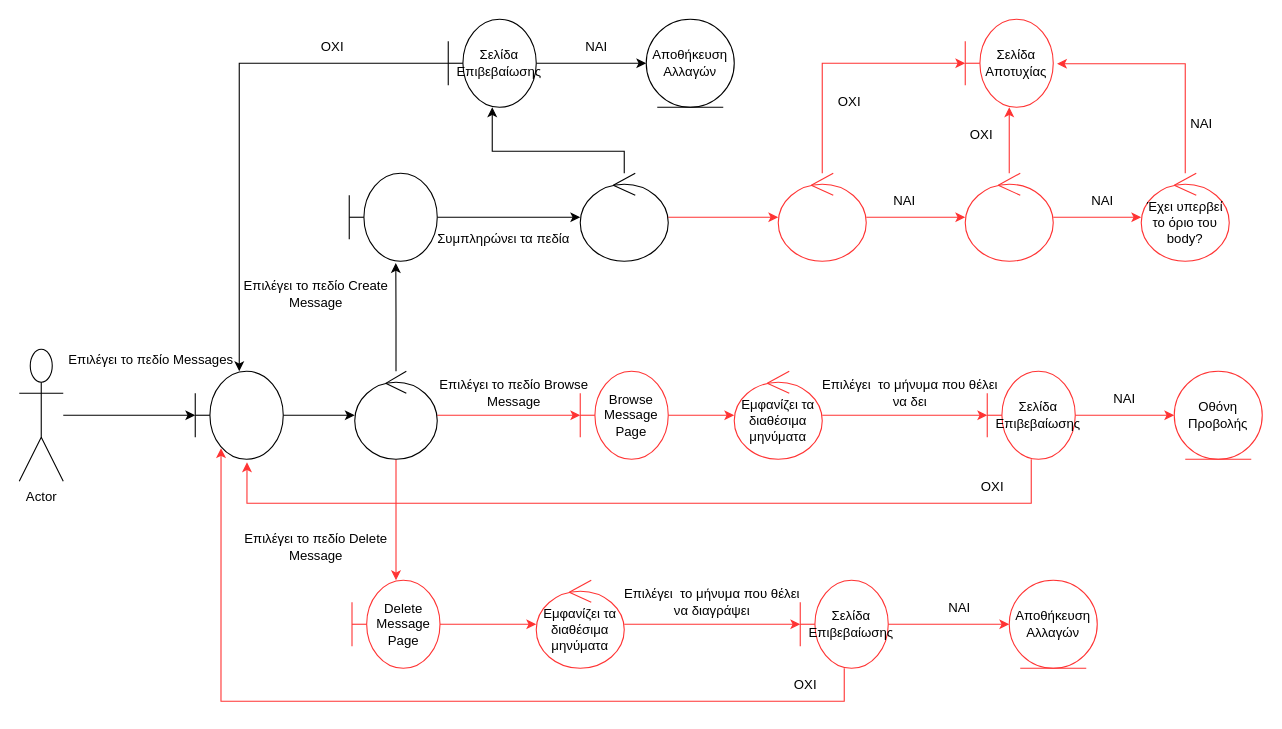
Some shapes in this 1282 by 729 pixel diagram are drawn without their labels. Each missing label, with the centre of its shape:
"Create Message Page" goes at (392,216).
"Messages Page" goes at (238,414).
"Έχει είσαγει τιμές σε όλα τα πεδία?" goes at (1008,216).
"Ειναι έγκυρος ο παραλήπτης?" goes at (821,216).
